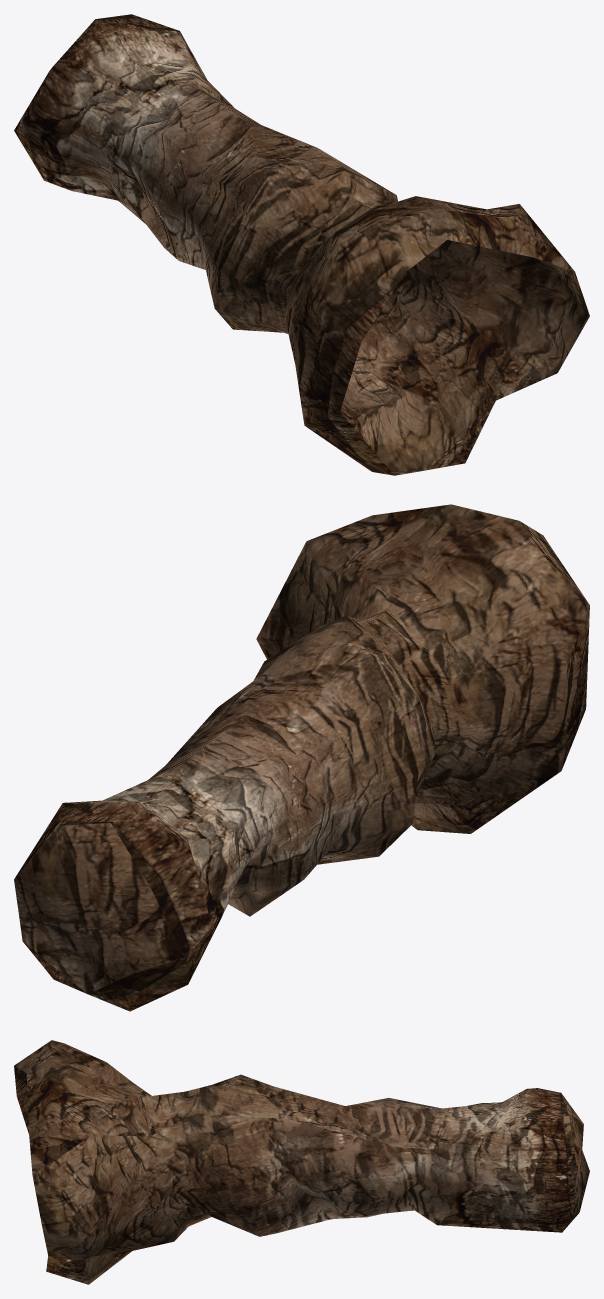
File: MEP_DesertCliff_02.fbx
3 renders of one model, top to bottom at view 1: azimuth 30°, elevation 25°; view 2: azimuth 150°, elevation 25°; view 3: azimuth 270°, elevation 25°, orthographic. The views are drawn at different scales.
Parts seen in each view (by area): view 1: MEP_Desert_Cliff_02; view 2: MEP_Desert_Cliff_02; view 3: MEP_Desert_Cliff_02.
Boxes of the visible parts, x1=… form: MEP_Desert_Cliff_02: x1=14, y1=14, x2=589, y2=475; MEP_Desert_Cliff_02: x1=14, y1=504, x2=589, y2=1011; MEP_Desert_Cliff_02: x1=14, y1=1040, x2=589, y2=1284.
Size of the model in its own units: 10.86 by 10.44 by 24.92.
